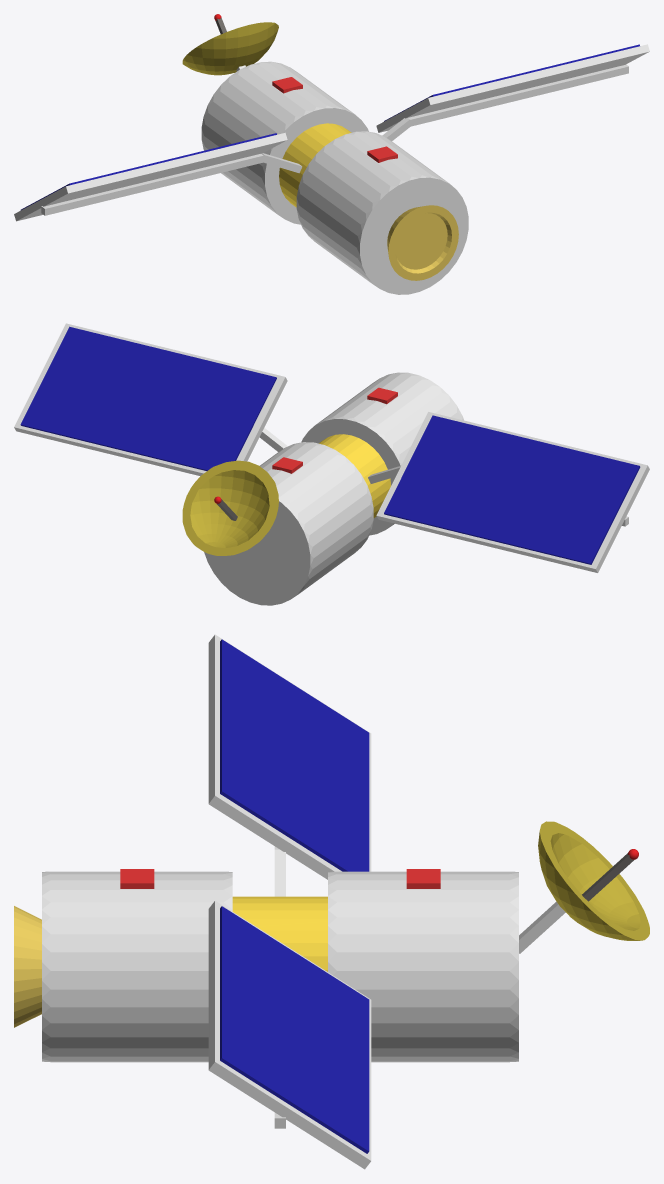
The model's file is satellite.gltf.
3 views of the same model, one above another, from view 1: azimuth 30°, elevation 25°; view 2: azimuth 150°, elevation 25°; view 3: azimuth 270°, elevation 25° (orthographic). The views are drawn at different scales.
Parts seen in each view (by area): view 1: Cylinder, Cylinder.002, Cone, Cube.008, Cube.006, Sphere, Cube.005, Cube.004, Cylinder.001, Cube.009, Cube.007; view 2: Cube.009, Cube.007, Cylinder.002, Cylinder, Sphere, Cube.008, Cube.006, Cylinder.001; view 3: Cylinder.002, Cylinder, Cube.007, Cube.009, Sphere, Cube.006, Cube.008, Cylinder.001, Cone, Cube.
Part boxes in pixels (x1=…): Cylinder: x1=296, y1=131, x2=468, y2=294; Cylinder.002: x1=201, y1=61, x2=368, y2=224; Cone: x1=387, y1=205, x2=458, y2=280; Cube.008: x1=14, y1=132, x2=287, y2=221; Cube.006: x1=376, y1=44, x2=649, y2=132; Sphere: x1=182, y1=22, x2=278, y2=75; Cube.005: x1=41, y1=153, x2=264, y2=215; Cube.004: x1=408, y1=64, x2=628, y2=126; Cylinder.001: x1=279, y1=123, x2=351, y2=207; Cube.009: x1=20, y1=133, x2=276, y2=210; Cube.007: x1=384, y1=44, x2=639, y2=121; Cube.009: x1=384, y1=415, x2=640, y2=564; Cube.007: x1=20, y1=326, x2=276, y2=470; Cylinder.002: x1=204, y1=442, x2=373, y2=605; Cylinder: x1=301, y1=372, x2=463, y2=535; Sphere: x1=182, y1=460, x2=278, y2=555; Cube.008: x1=376, y1=412, x2=649, y2=572; Cube.006: x1=14, y1=323, x2=287, y2=476; Cylinder.001: x1=319, y1=434, x2=391, y2=517; Cylinder.002: x1=328, y1=871, x2=518, y2=1062; Cylinder: x1=42, y1=871, x2=232, y2=1062; Cube.007: x1=220, y1=906, x2=369, y2=1153; Cube.009: x1=220, y1=639, x2=369, y2=871; Sphere: x1=538, y1=821, x2=649, y2=940; Cube.006: x1=208, y1=900, x2=371, y2=1169; Cube.008: x1=208, y1=634, x2=371, y2=879; Cylinder.001: x1=232, y1=896, x2=327, y2=971; Cone: x1=14, y1=906, x2=41, y2=1027; Cube: x1=519, y1=901, x2=565, y2=953.
Size of the model in its own units: 10.64 by 2.57 by 6.67.
